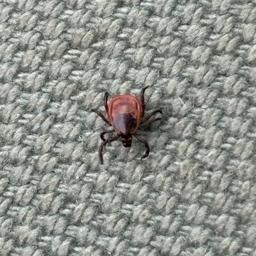Ixodes scapularis: (91, 86, 164, 164)
